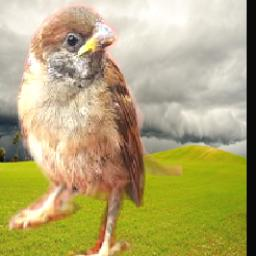Sparrow: (5, 3, 186, 256)
